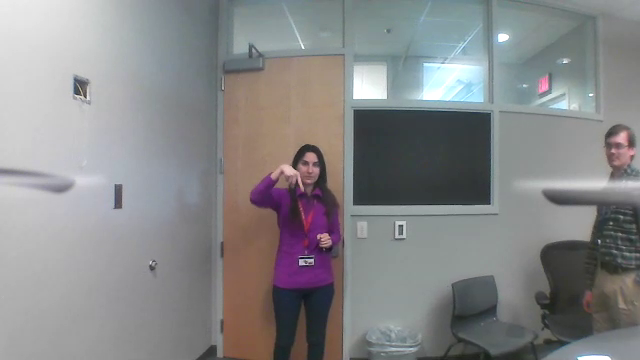down: (278, 160, 305, 196)
